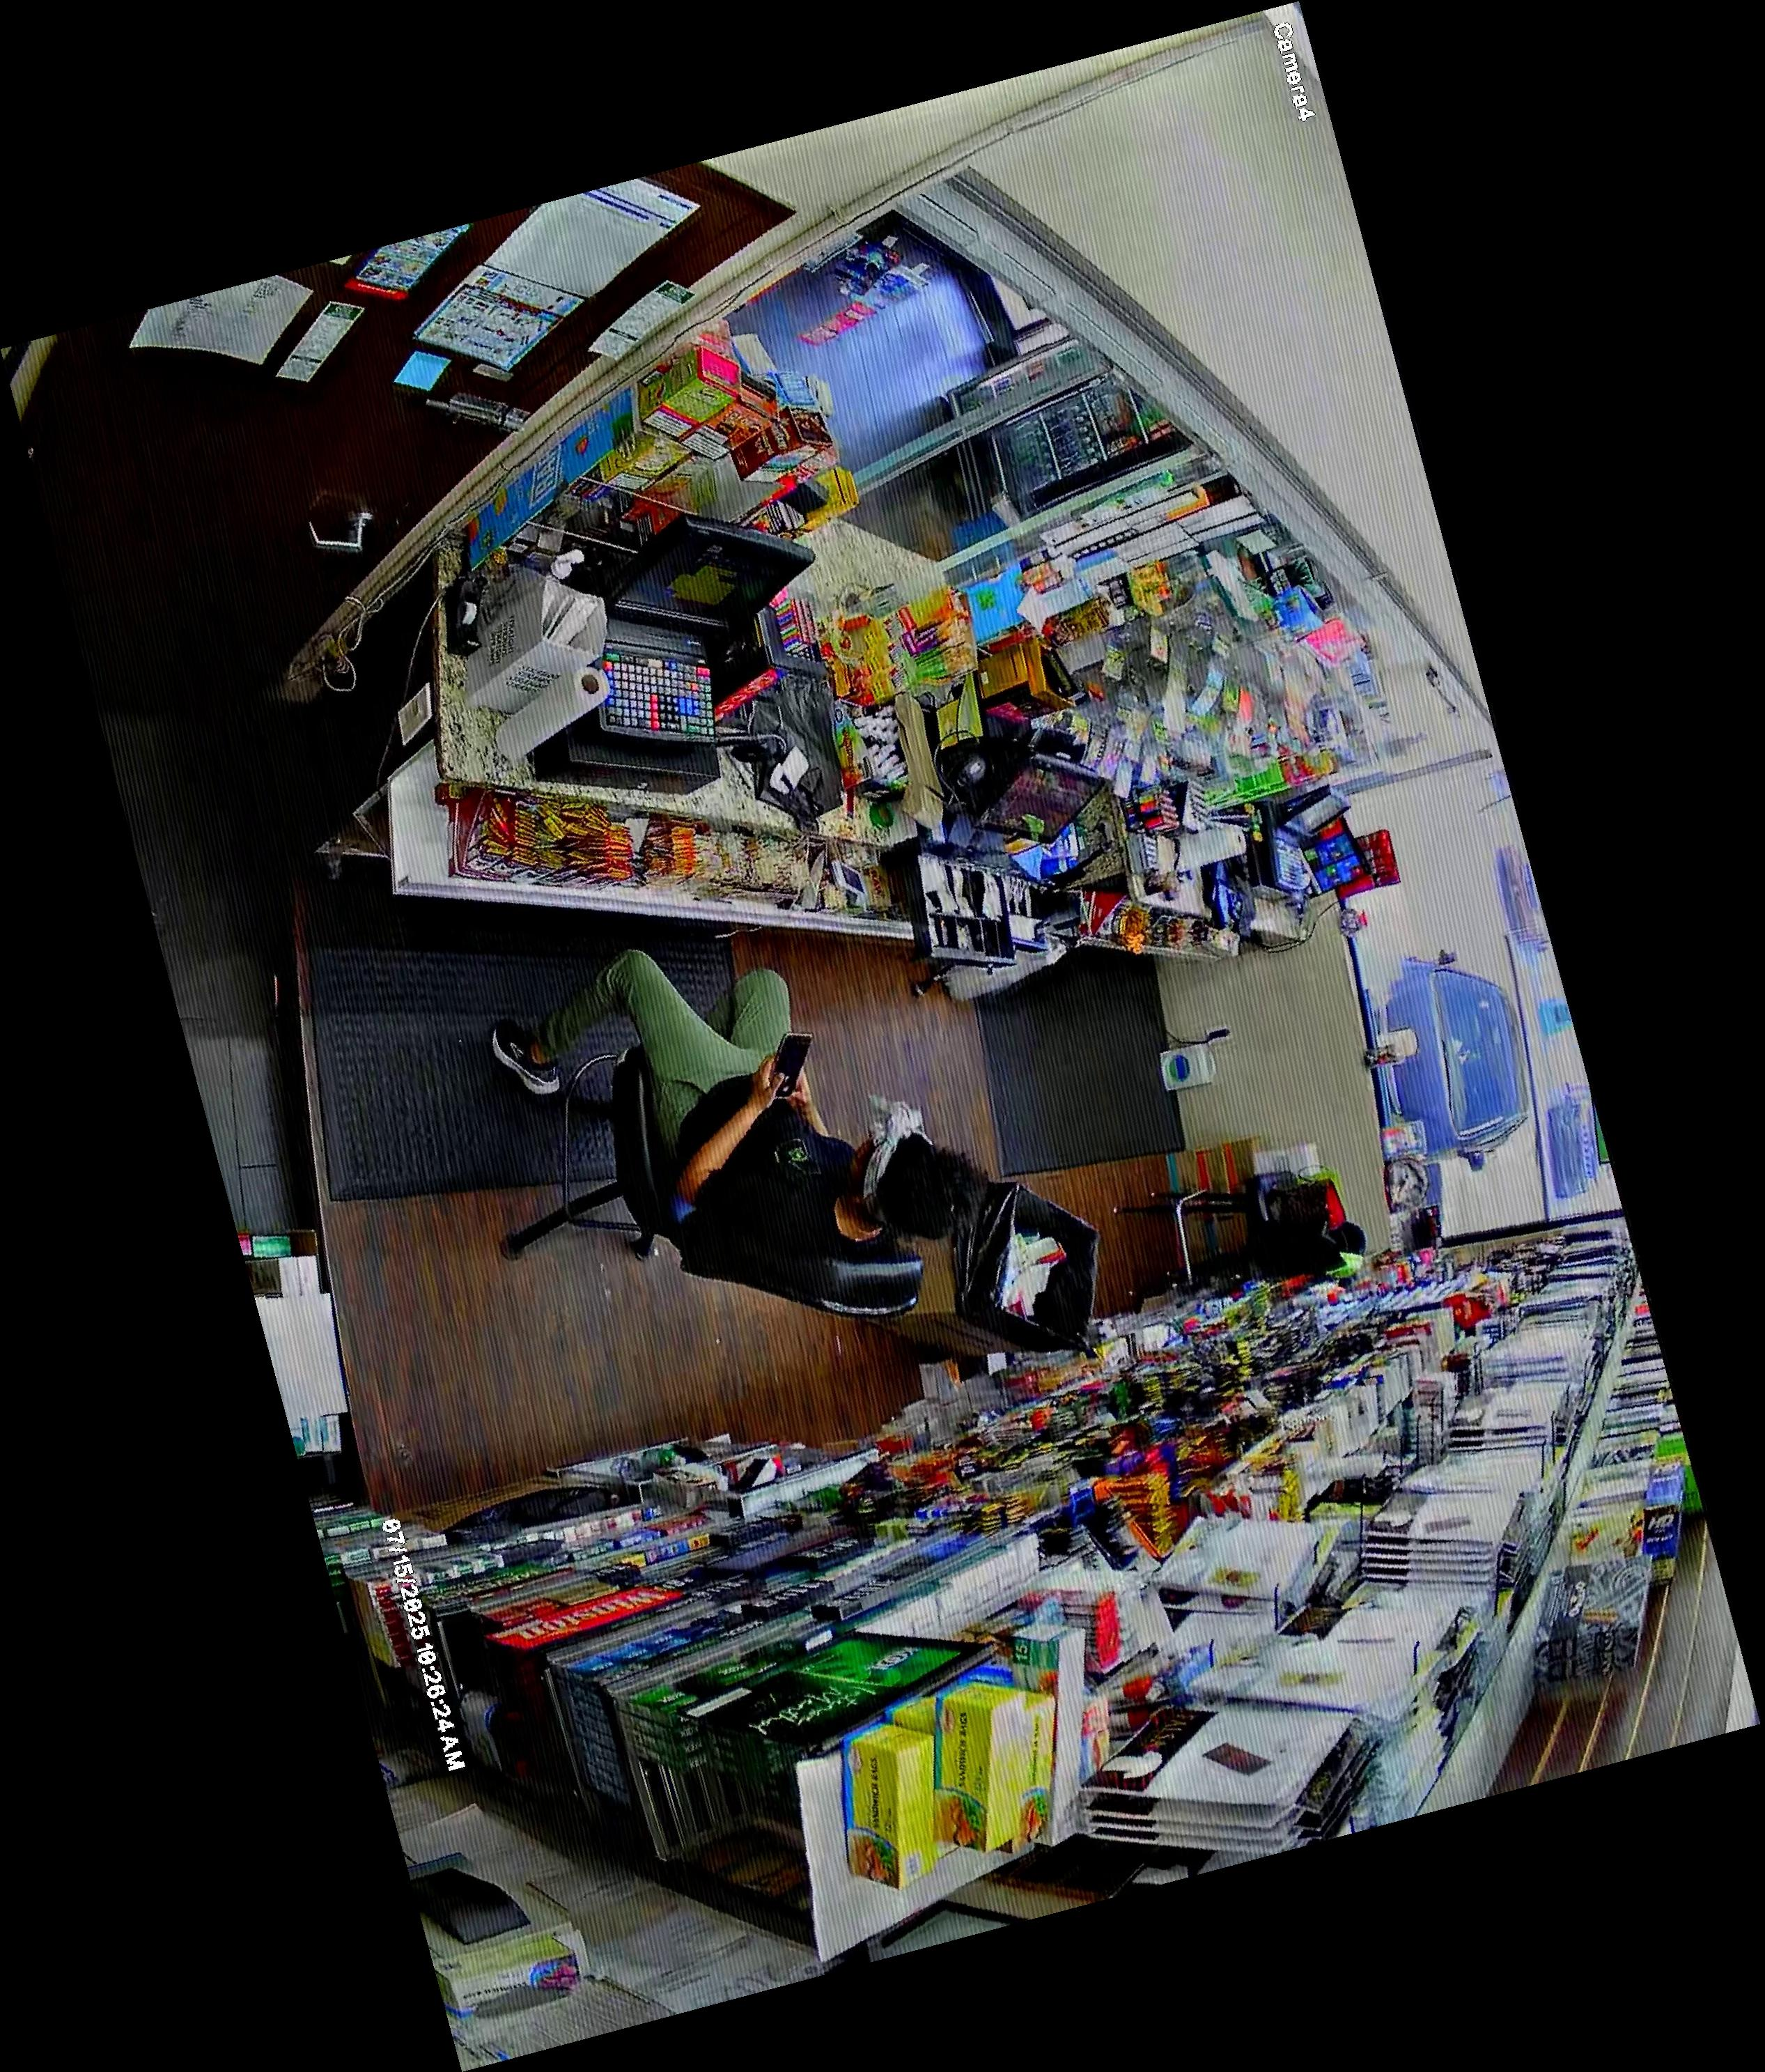phone: (758, 1021, 818, 1110)
